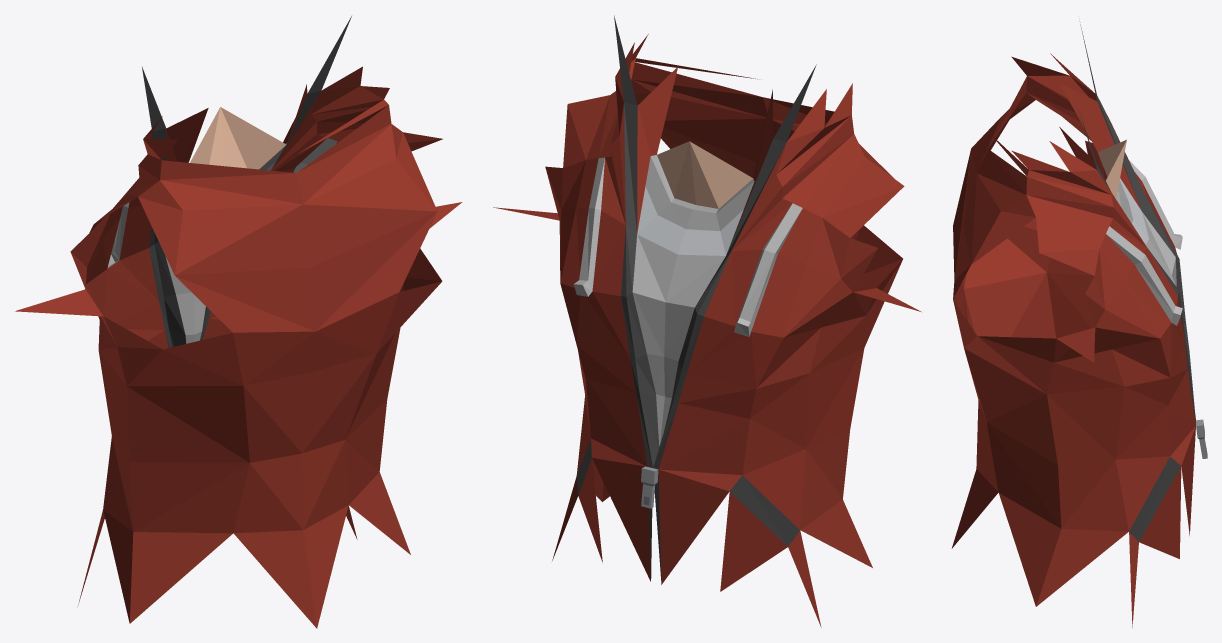
The model's file is Torso.obj.
The picture shows the model from 3 angles, left to right: view 1: azimuth 30°, elevation 25°; view 2: azimuth 150°, elevation 25°; view 3: azimuth 270°, elevation 25°; orthographic projection. The views are drawn at different scales.
Bounding box in the file's own units: 0.5821 × 0.6905 × 0.3167.
1 material, 1 textured.
